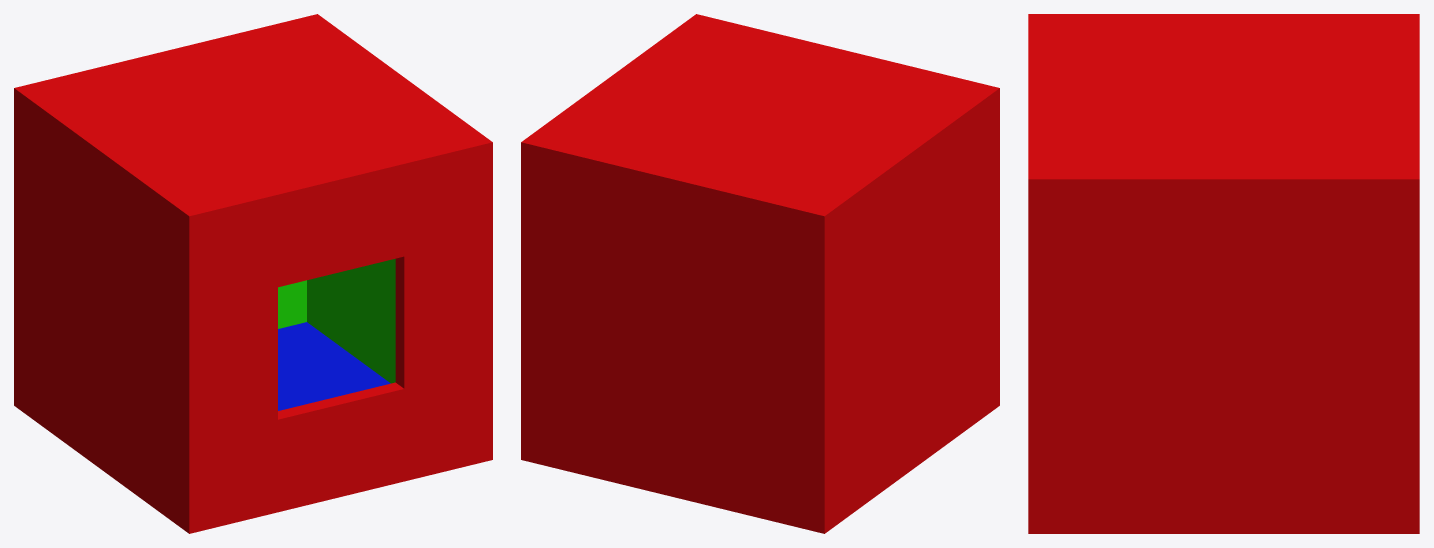
File: generic3x3x3_window_hole.fbx
The picture shows the model from 3 angles, left to right: view 1: azimuth 30°, elevation 25°; view 2: azimuth 150°, elevation 25°; view 3: azimuth 270°, elevation 25°; orthographic projection. The views are drawn at different scales.
Parts seen in each view (by area): view 1: Cube.002; view 2: Cube.002; view 3: Cube.002.
Boxes of the visible parts, x1,y1,x2,y2 form: Cube.002: [14, 14, 492, 533]; Cube.002: [521, 14, 999, 533]; Cube.002: [1028, 14, 1419, 533].
Size of the model in its own units: 3 by 3 by 3.
